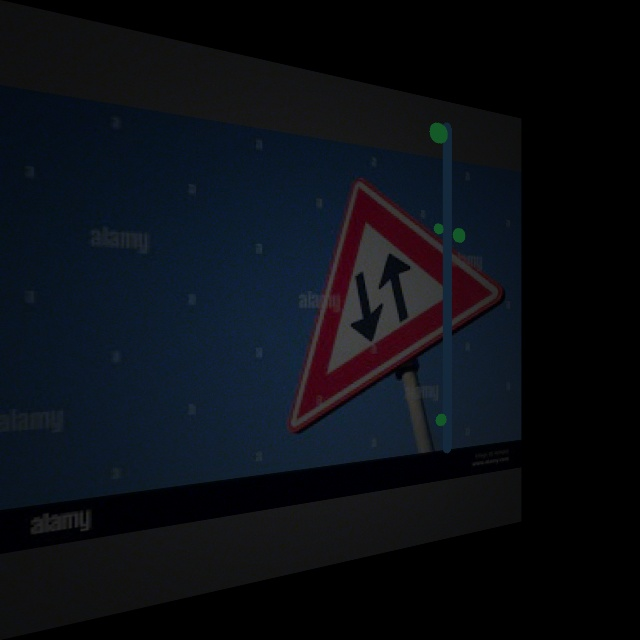Mandatory_Two_Way_Traffic: (284, 171, 498, 406)
